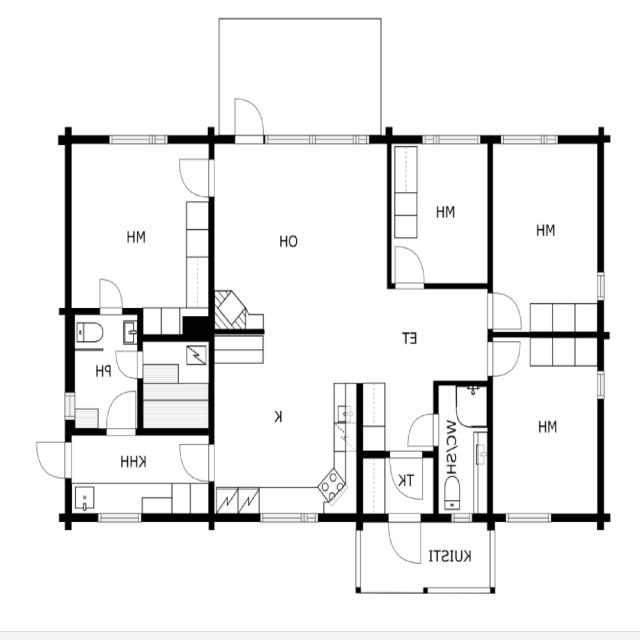door: (382, 450, 430, 505), (174, 434, 220, 487), (174, 147, 219, 201), (30, 434, 76, 483), (386, 510, 424, 568), (228, 92, 268, 146), (391, 240, 428, 291), (485, 334, 524, 379), (486, 287, 525, 332), (402, 409, 441, 453), (104, 385, 138, 435), (93, 272, 129, 316), (114, 346, 144, 384)
window: (259, 127, 375, 147), (102, 125, 176, 150), (254, 506, 326, 529), (414, 126, 486, 149), (497, 127, 563, 149), (499, 507, 558, 528), (95, 509, 146, 526), (593, 264, 609, 305), (445, 510, 479, 528), (62, 387, 77, 424), (594, 366, 608, 404)
zone: (210, 137, 394, 340), (67, 136, 213, 321), (209, 342, 360, 518), (488, 137, 602, 334), (490, 336, 603, 515), (388, 138, 491, 288), (65, 431, 213, 518), (71, 310, 141, 430), (434, 380, 490, 519), (140, 338, 213, 433)
